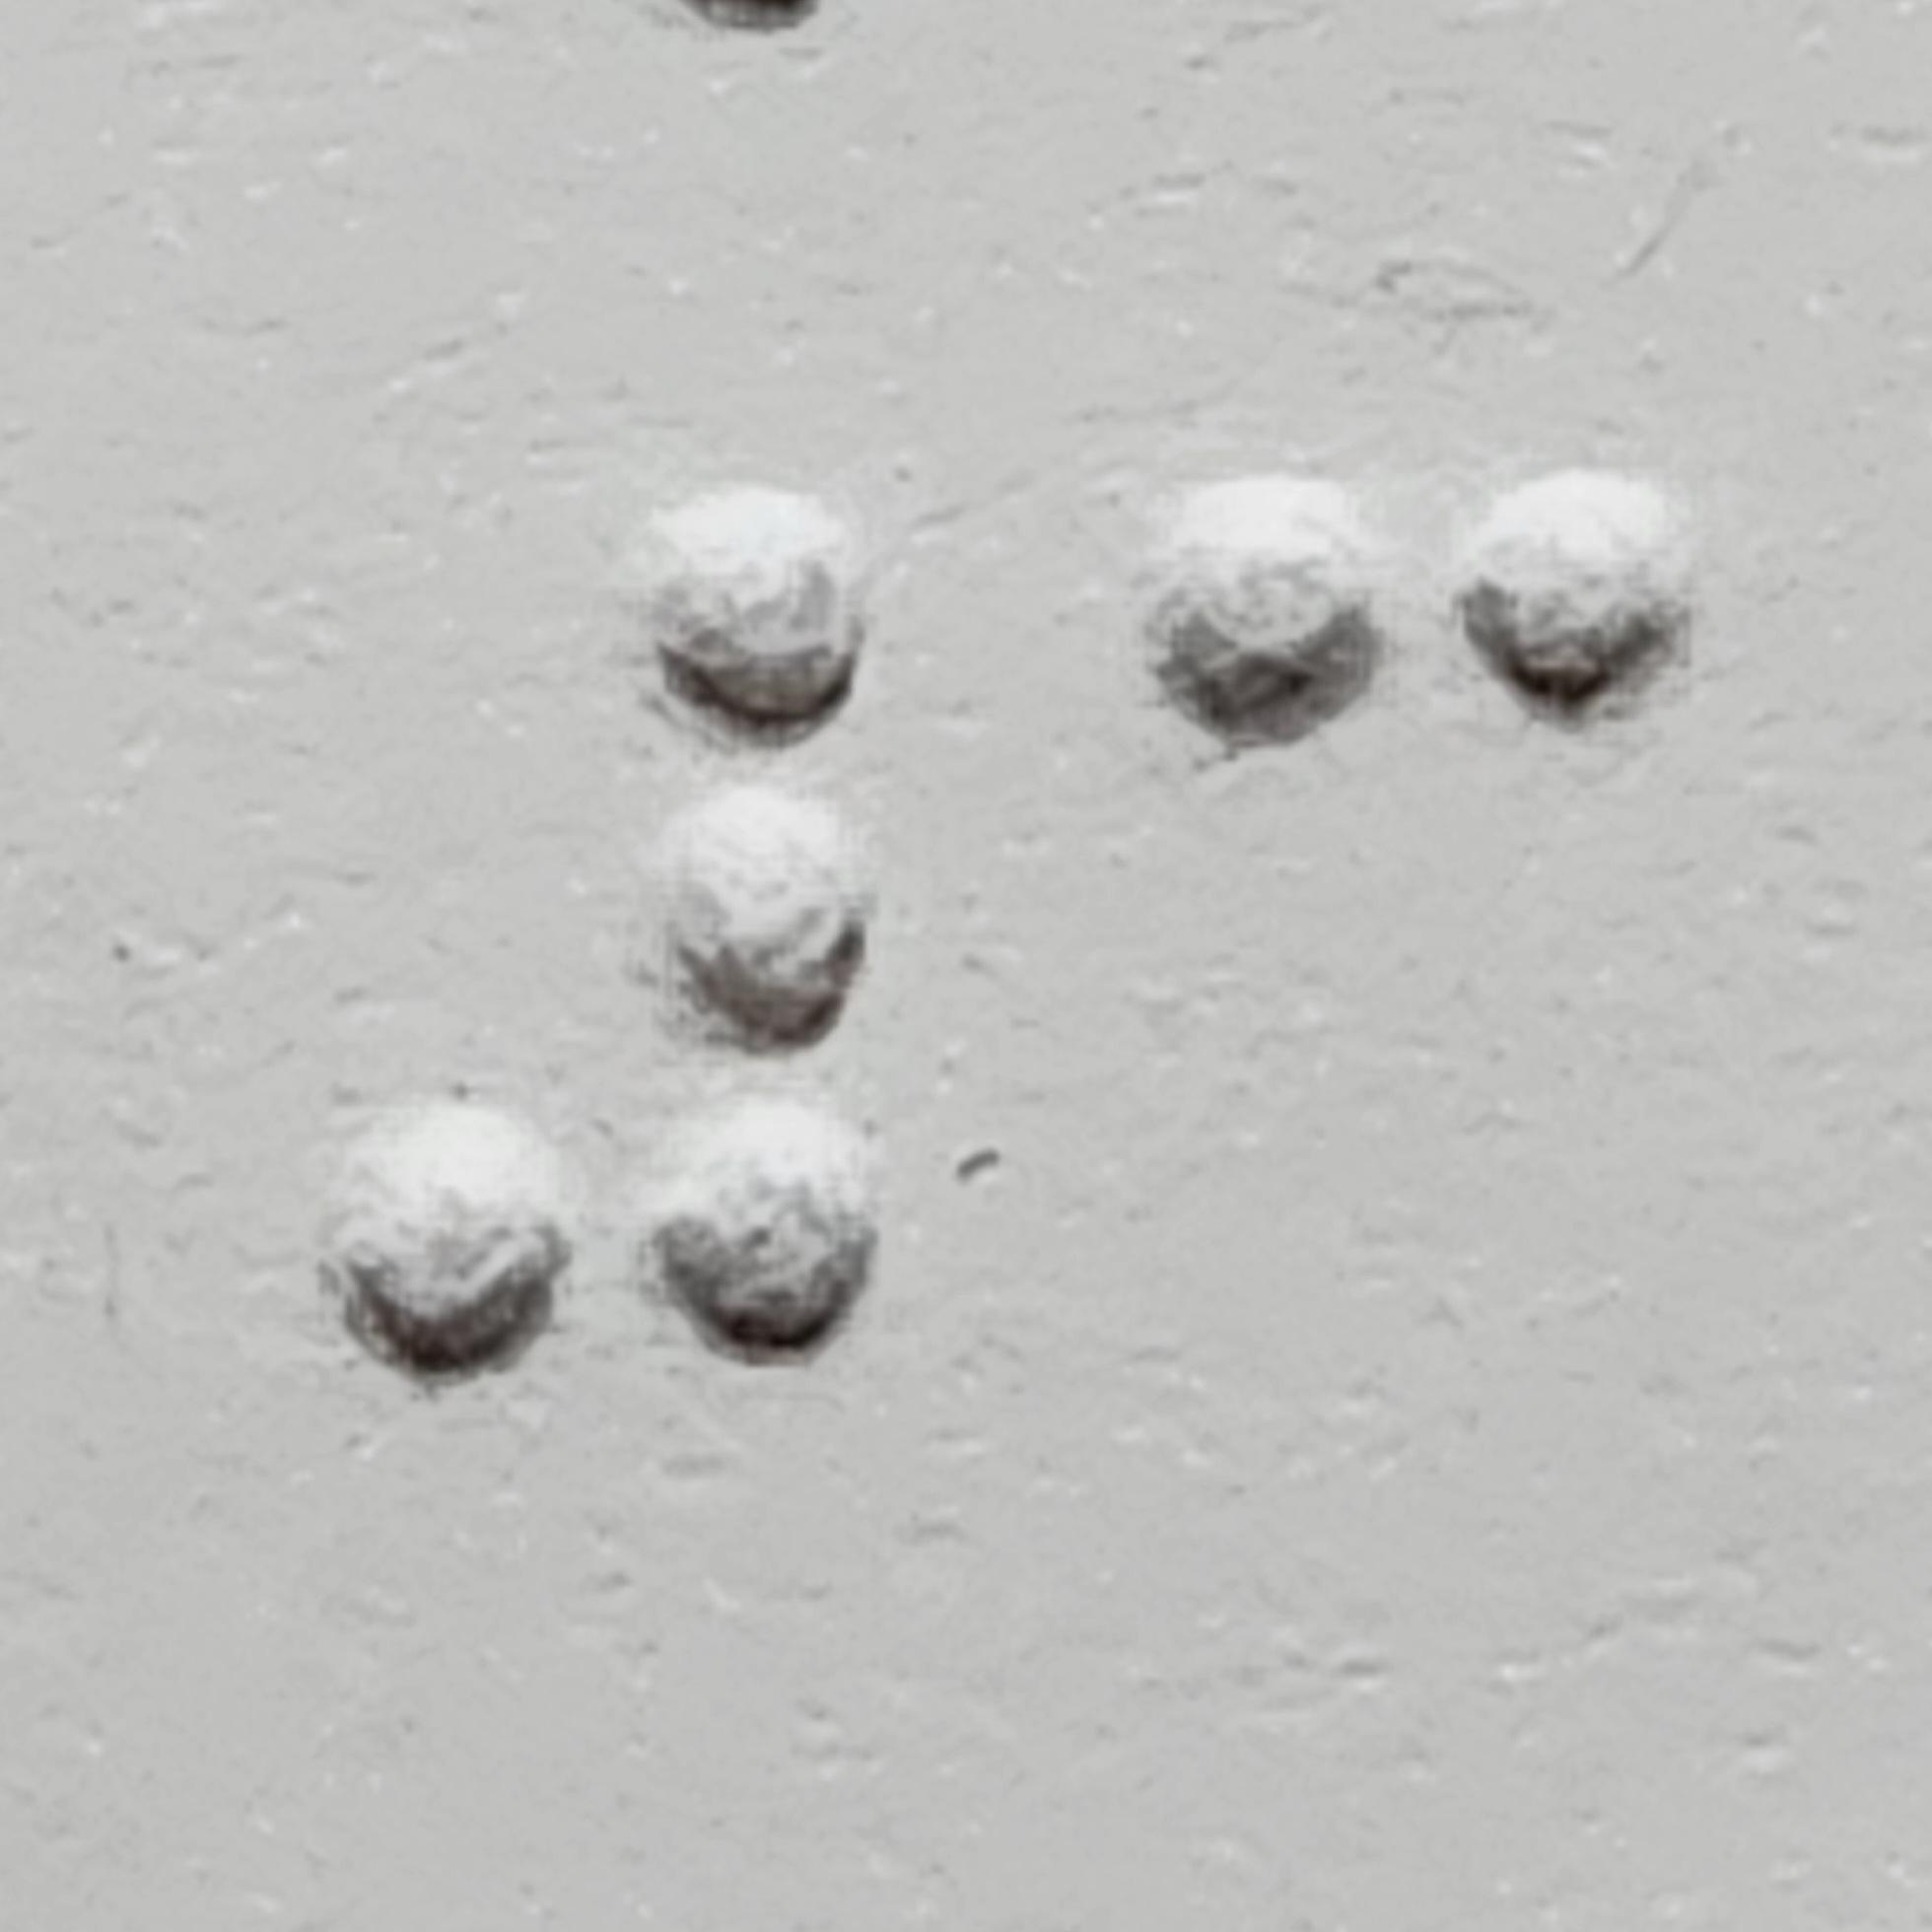digit_3: (1131, 464, 1693, 1371)
number_sign: (326, 485, 890, 1391)
